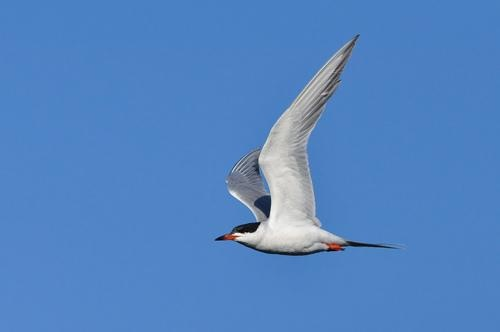bird: (216, 30, 407, 259)
